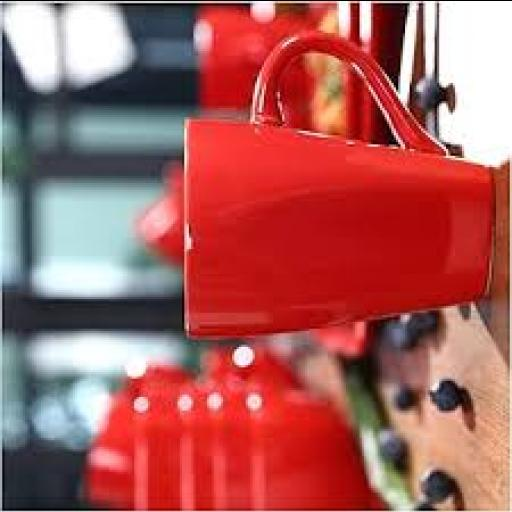red mug: (184, 32, 489, 335)
